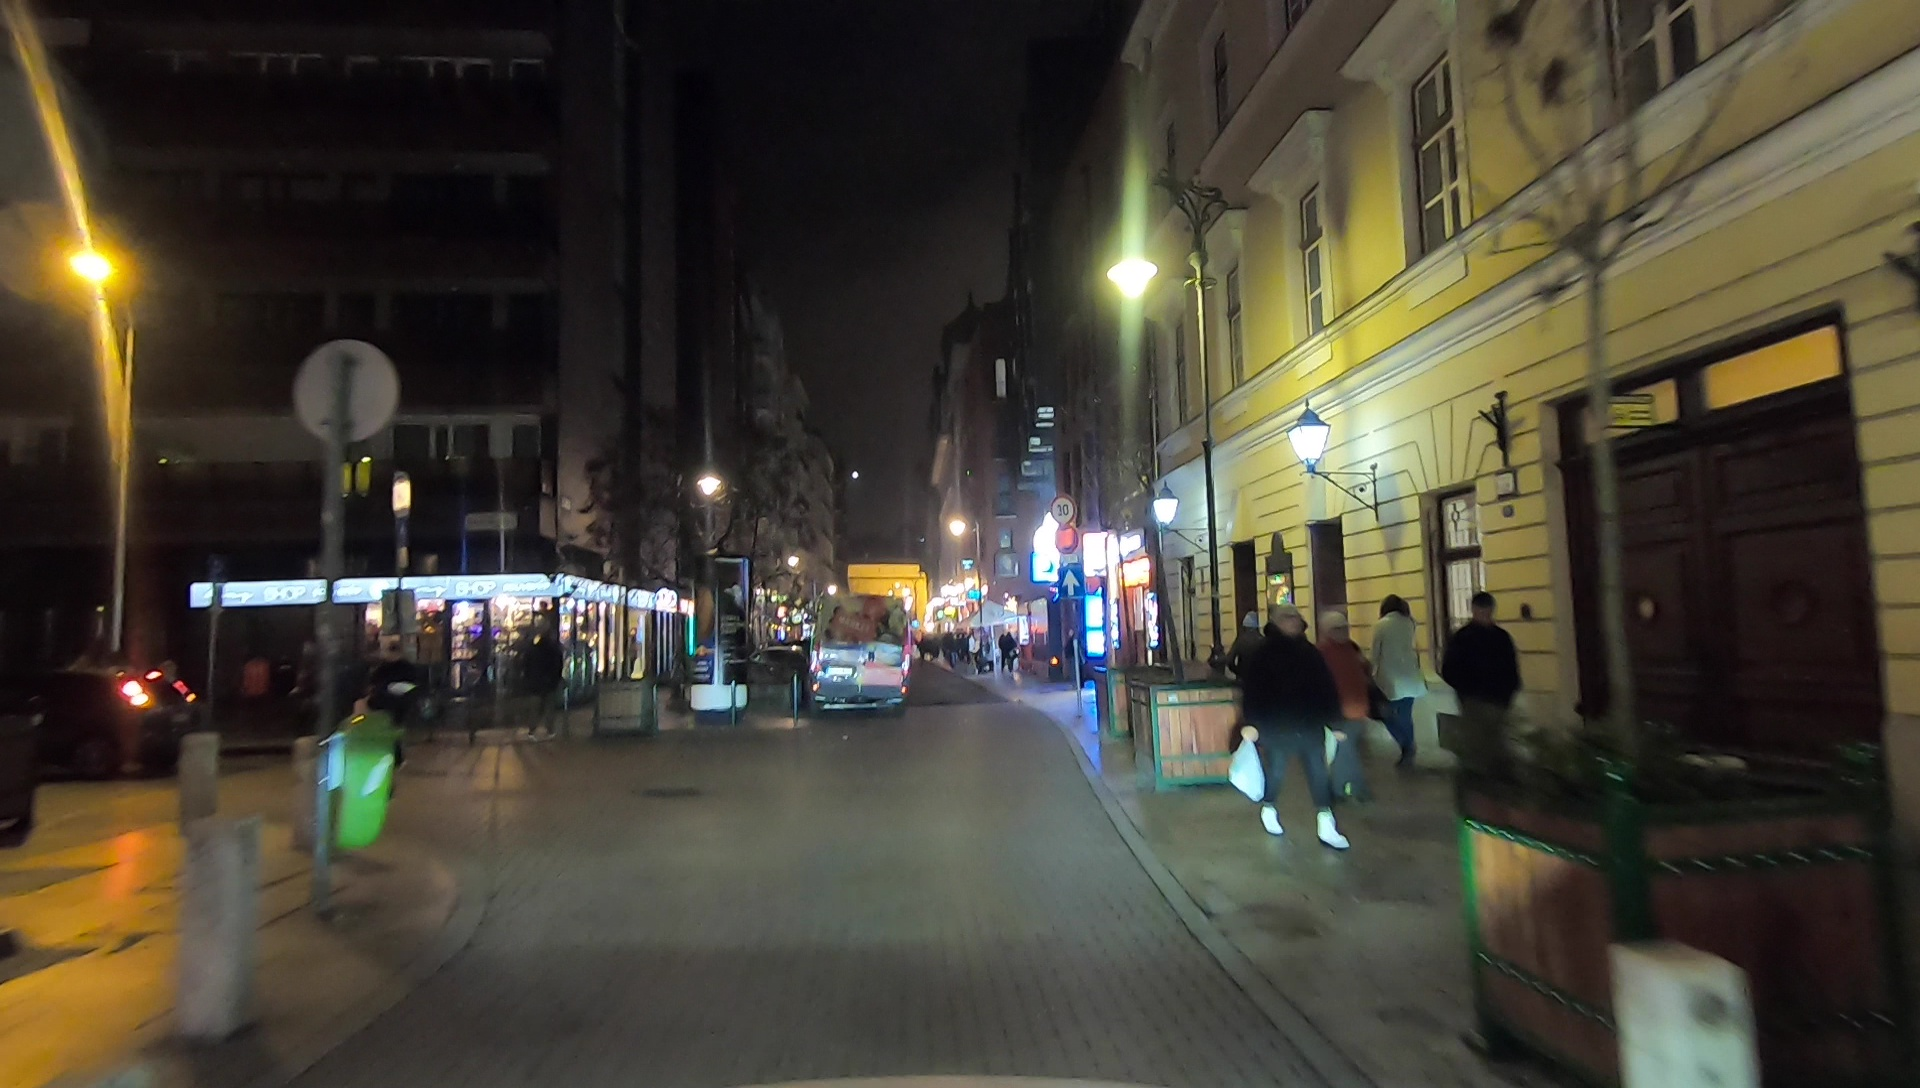person: (1234, 606, 1352, 858), (1454, 599, 1521, 795), (1310, 604, 1376, 793), (1375, 591, 1428, 773), (517, 628, 571, 741)
